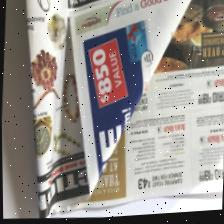paper: (26, 0, 224, 223)
